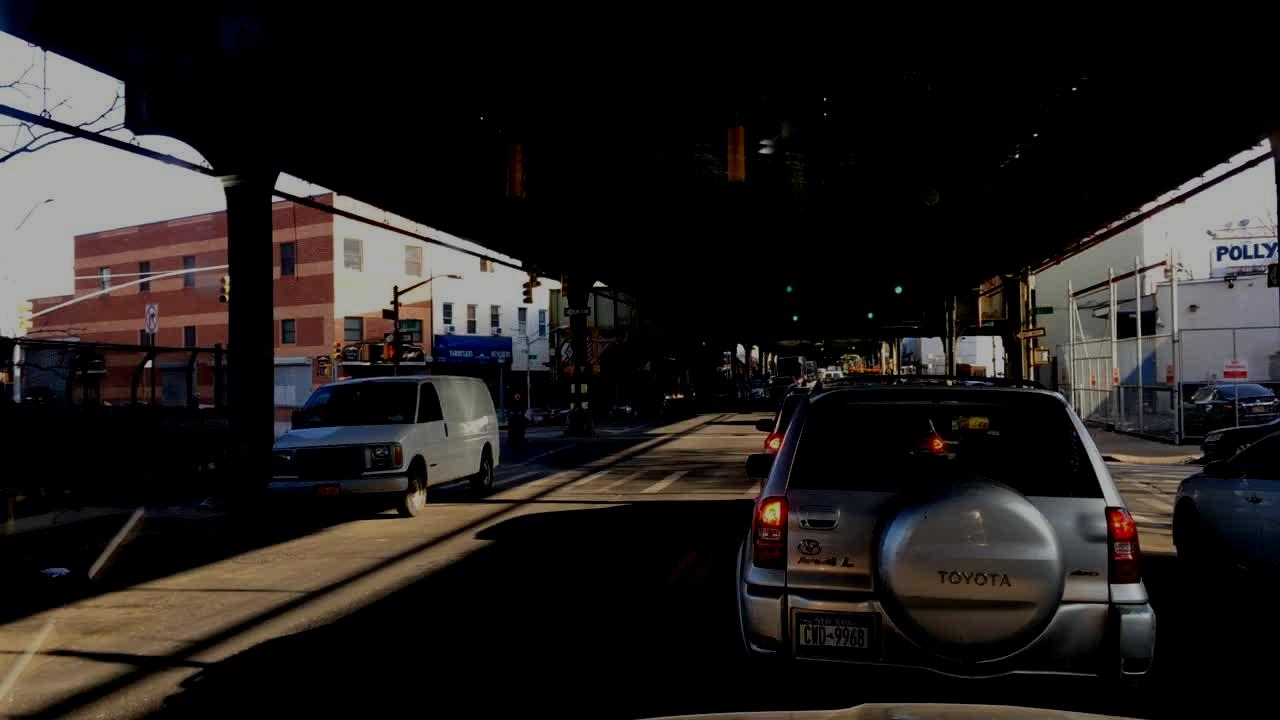GMC: (314, 453, 346, 469)
Toyota: (793, 530, 830, 565)
